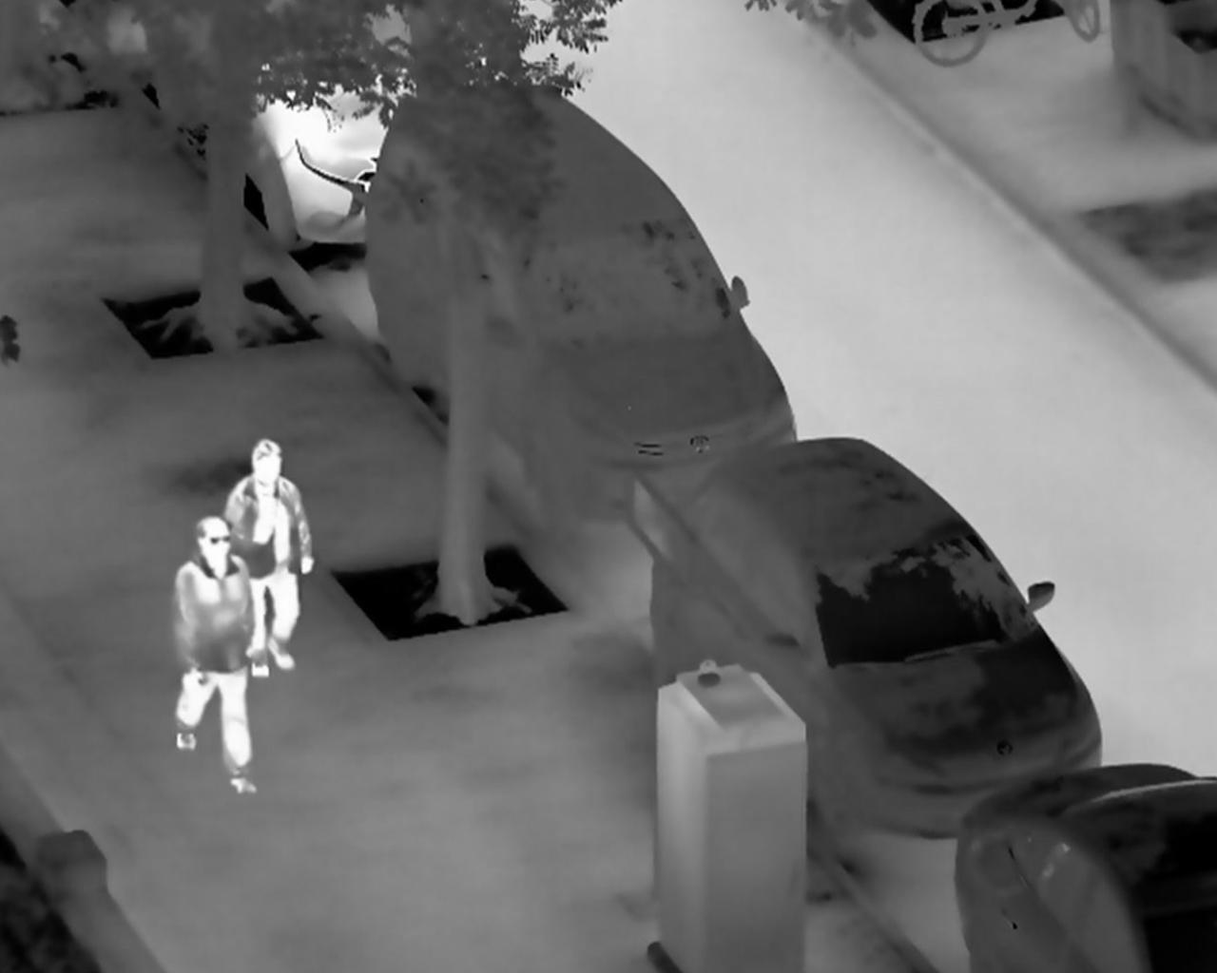person: (171, 514, 261, 797), (224, 437, 316, 681)
